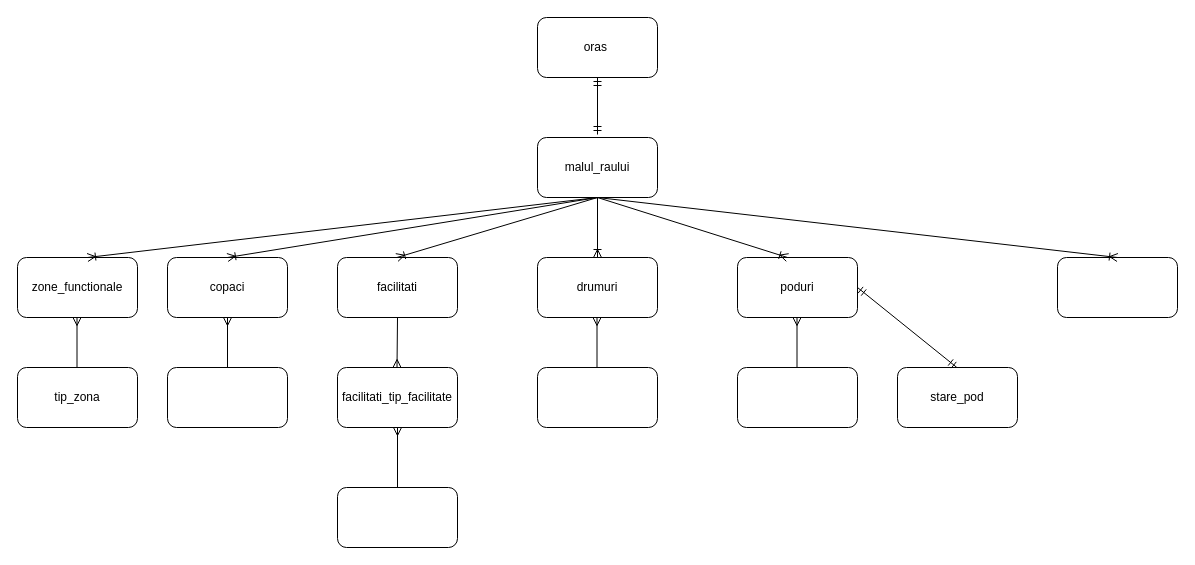
Some shapes in this 1195 by 565 pixel diagram are drawn without their labels. The shapes that lost their labels are listed below. From the top down, each one's centre as x and y in pixels, then its label:
At point 1117,287: "banci".
At point 227,397: "specie_copac".
At point 597,397: "tip_drum".
At point 797,397: "tip_pod".
At point 397,517: "tip_facilitate".
